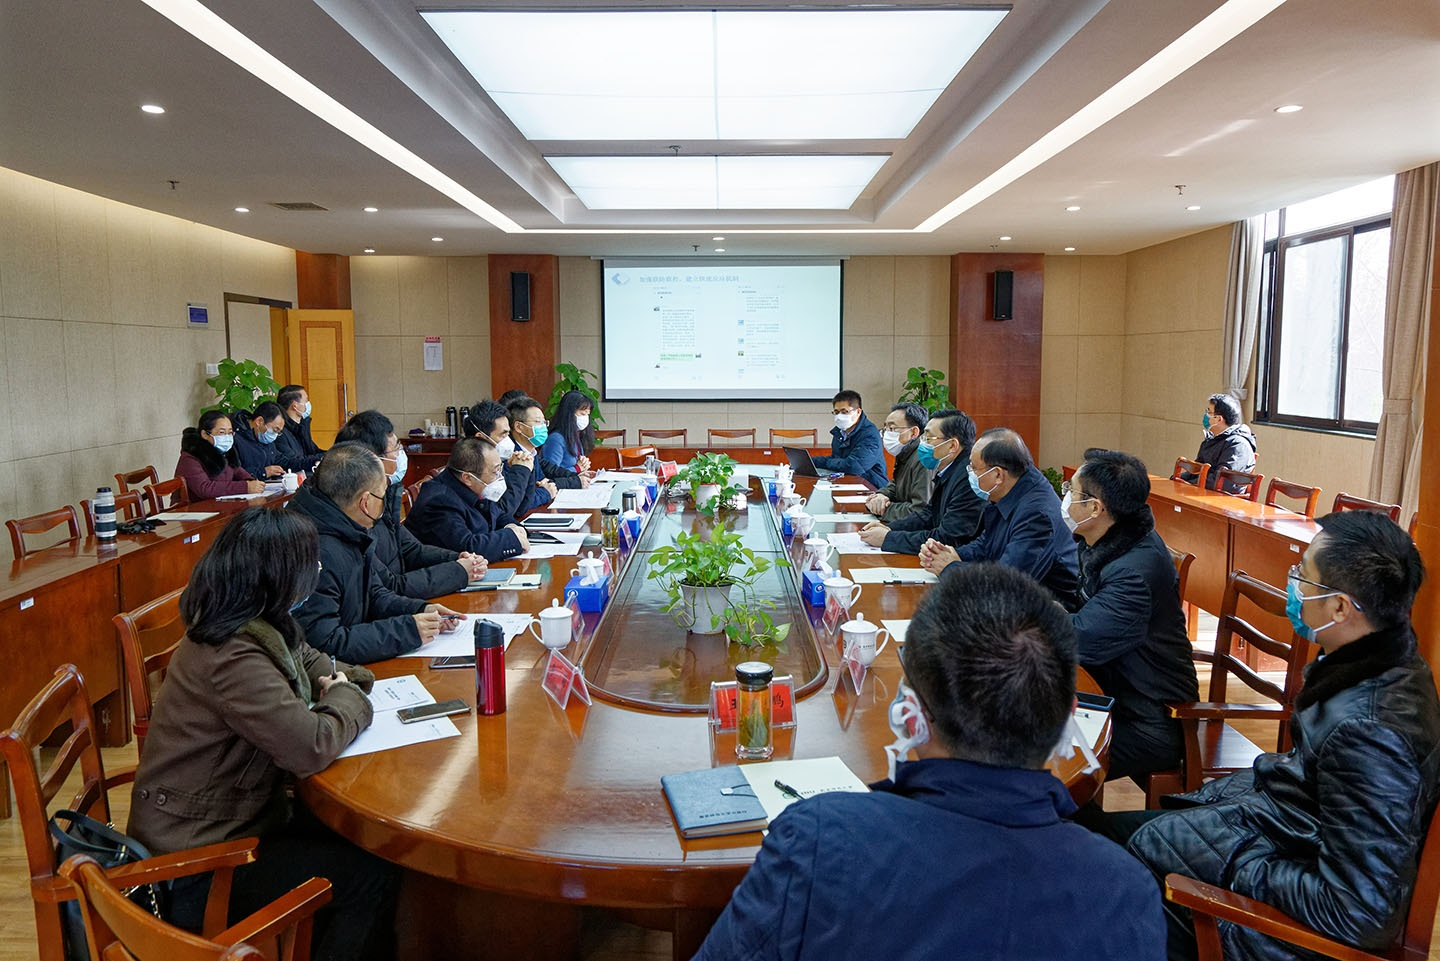correctlyWear: (1285, 528, 1352, 645), (1060, 477, 1103, 539), (966, 448, 1005, 501), (463, 458, 507, 503), (360, 457, 389, 524), (918, 423, 959, 467), (377, 437, 409, 484), (476, 422, 515, 459), (880, 422, 920, 455), (515, 413, 549, 449), (254, 411, 285, 444), (201, 419, 233, 450), (831, 402, 863, 431), (567, 403, 592, 432), (1202, 404, 1224, 433), (290, 396, 314, 418)
